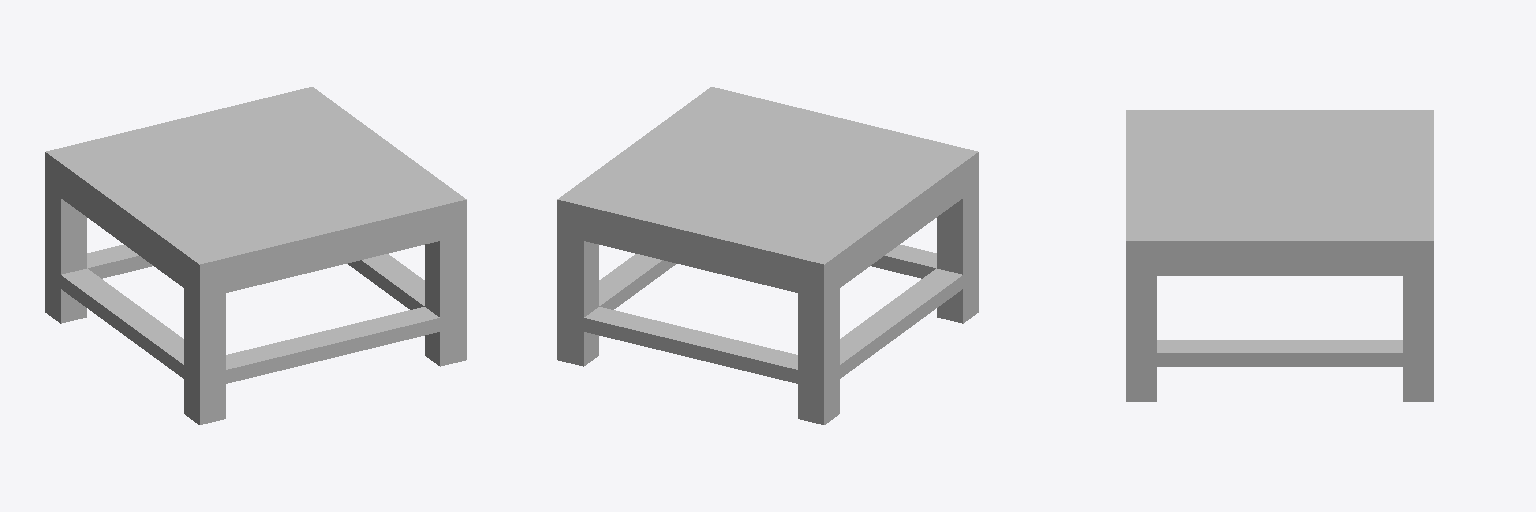
File: tableCoffeeGlassSquare.obj
3 renders of one model, left to right at view 1: azimuth 30°, elevation 25°; view 2: azimuth 150°, elevation 25°; view 3: azimuth 270°, elevation 25°, orthographic.
Parts seen in each view (by area): view 1: tableCoffeeGlassSquare; view 2: tableCoffeeGlassSquare; view 3: tableCoffeeGlassSquare.
Boxes of the visible parts, x1,y1,x2,y2 form: tableCoffeeGlassSquare: [45, 87, 466, 424]; tableCoffeeGlassSquare: [557, 87, 978, 424]; tableCoffeeGlassSquare: [1126, 110, 1433, 401].
Size of the model in its own units: 0.4 by 0.23 by 0.4.